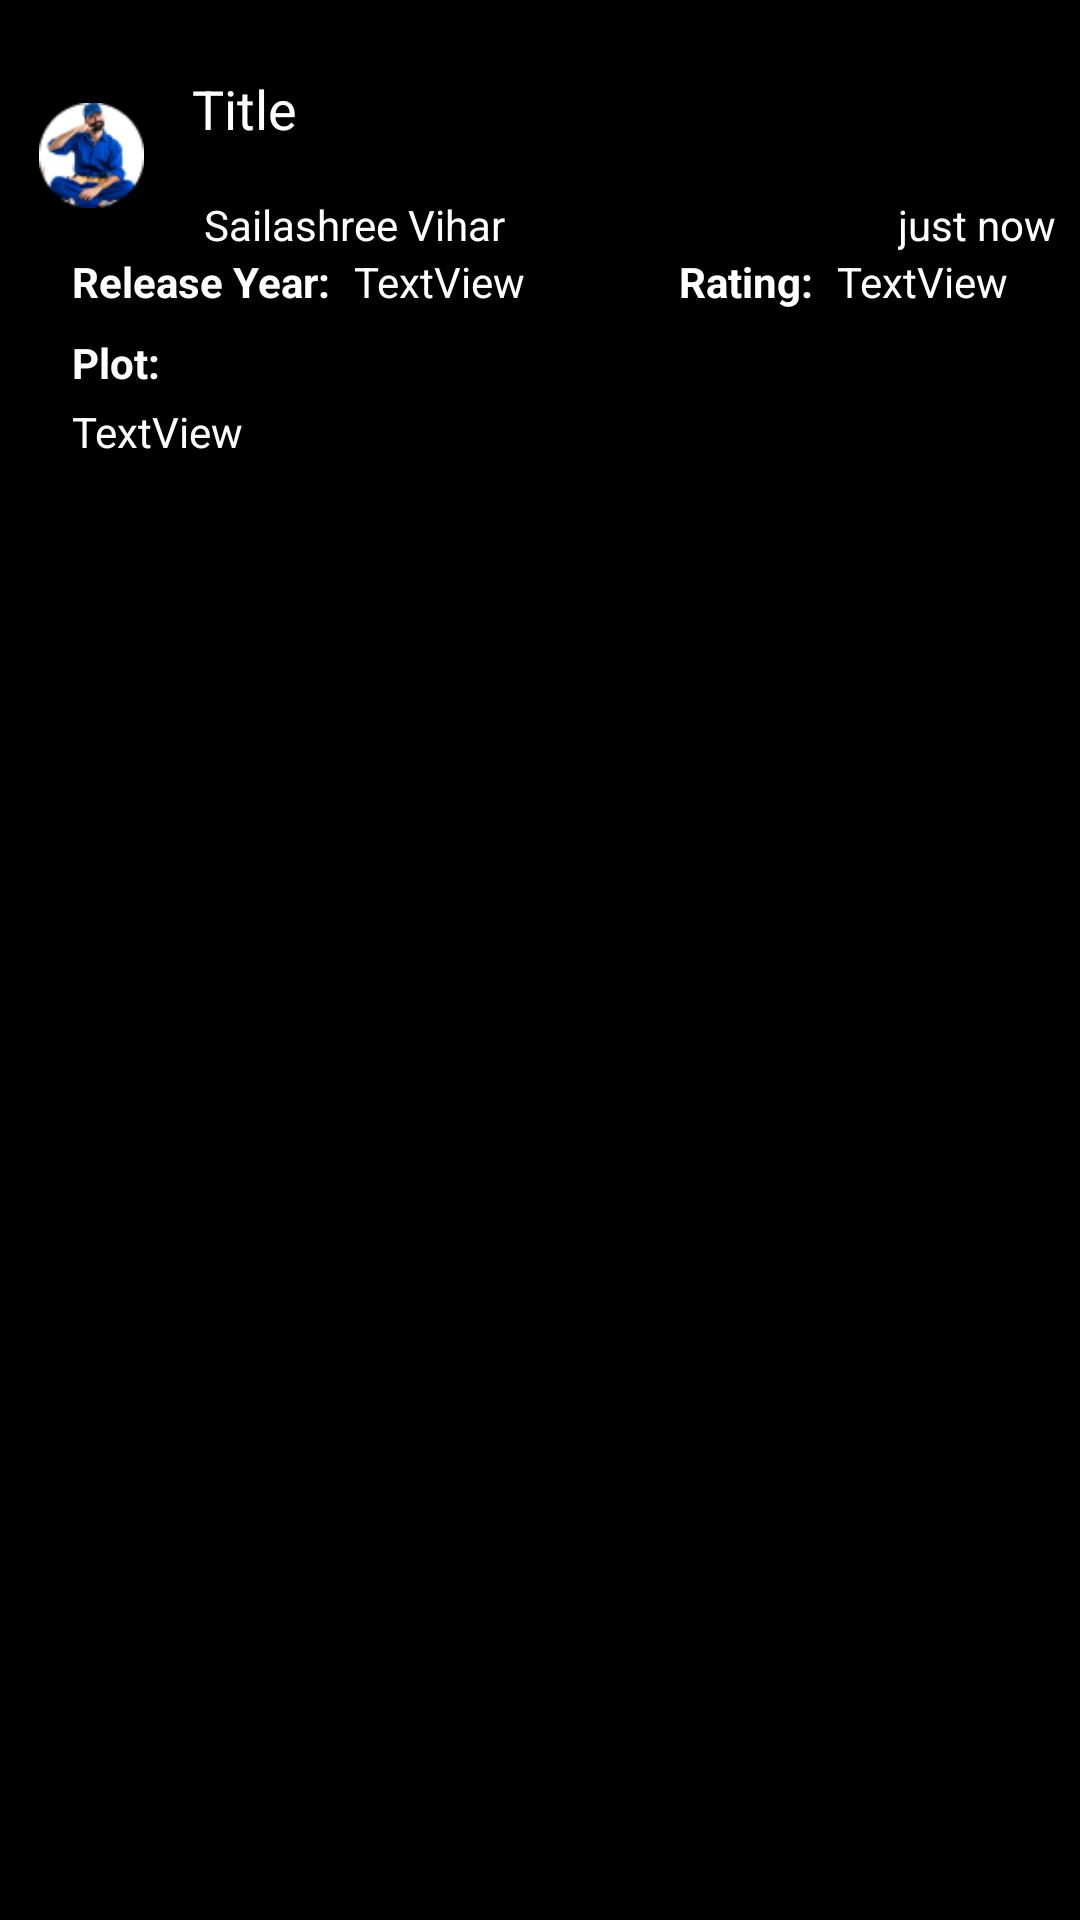

Icon bounding boxes for this 1080w x 1920h phone screenshot, format (x1, y1, x2, y2):
man: (39, 103, 144, 208)
